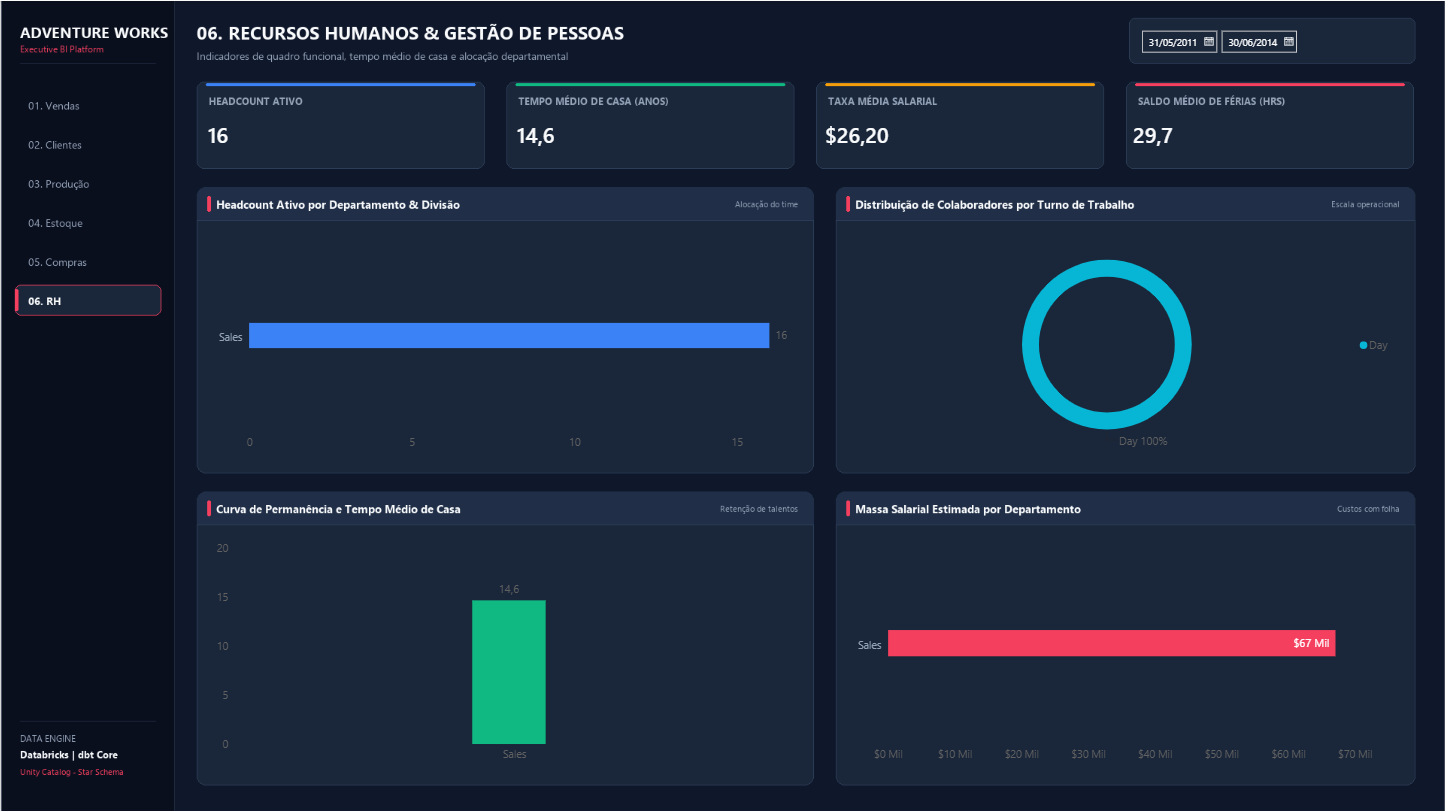

What the dashboard file says about the page in this screenshot:
{"tool":"powerbi","page":{"name":"RH","canvas":[1920,1080],"ordinal":5},"visuals":[{"type":"slicer","fields":{"Values":["dates.calendar_date"]},"box":[1510,35,360,45],"z":0},{"type":"cardVisual","fields":{"Data":["d_Medidas.Headcount Ativo"]},"box":[260,140,380,75],"z":1000},{"type":"cardVisual","fields":{"Data":["d_Medidas.Tempo Médio de Casa (Anos)"]},"box":[670,140,380,75],"z":2000},{"type":"cardVisual","fields":{"Data":["d_Medidas.Taxa Média Salarial"]},"box":[1080,140,380,75],"z":3000},{"type":"cardVisual","fields":{"Data":["d_Medidas.Saldo Médio Horas Férias"]},"box":[1490,140,380,75],"z":4000},{"type":"clusteredBarChart","fields":{"Category":["employees.department_name"],"Y":["d_Medidas.Headcount Ativo"]},"box":[270,298.3,800,320],"z":5000},{"type":"donutChart","fields":{"Category":["employees.shift_name"],"Y":["d_Medidas.Headcount Ativo"]},"box":[1120,298,750,320],"z":6000},{"type":"clusteredColumnChart","fields":{"Category":["employees.department_name"],"Y":["d_Medidas.Tempo Médio de Casa (Anos)"]},"box":[270,702,800,330],"z":7000},{"type":"clusteredBarChart","fields":{"Category":["employees.department_name"],"Y":["d_Medidas.Massa Salarial Estimada"]},"box":[1120,702,750,330],"z":8000}]}

Visuals, with their boxes on the page's 1920x1080 design canvas (x1, y1, x2, y2). These are canvas units, not pixel positions in the 1445x811 screenshot, which may show the page scaled, cropped or inside an application window:
slicer - dates.calendar_date: bbox(1510, 35, 1870, 80)
cardVisual - d_Medidas.Headcount Ativo: bbox(260, 140, 640, 215)
cardVisual - d_Medidas.Tempo Médio de Casa (Anos): bbox(670, 140, 1050, 215)
cardVisual - d_Medidas.Taxa Média Salarial: bbox(1080, 140, 1460, 215)
cardVisual - d_Medidas.Saldo Médio Horas Férias: bbox(1490, 140, 1870, 215)
clusteredBarChart - employees.department_name x d_Medidas.Headcount Ativo: bbox(270, 298, 1070, 618)
donutChart - employees.shift_name x d_Medidas.Headcount Ativo: bbox(1120, 298, 1870, 618)
clusteredColumnChart - employees.department_name x d_Medidas.Tempo Médio de Casa (Anos): bbox(270, 702, 1070, 1032)
clusteredBarChart - employees.department_name x d_Medidas.Massa Salarial Estimada: bbox(1120, 702, 1870, 1032)
